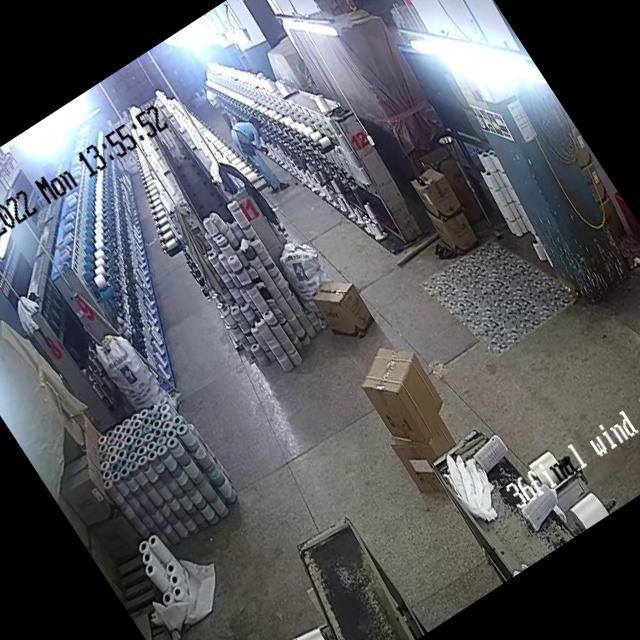person: (222, 109, 300, 202)
